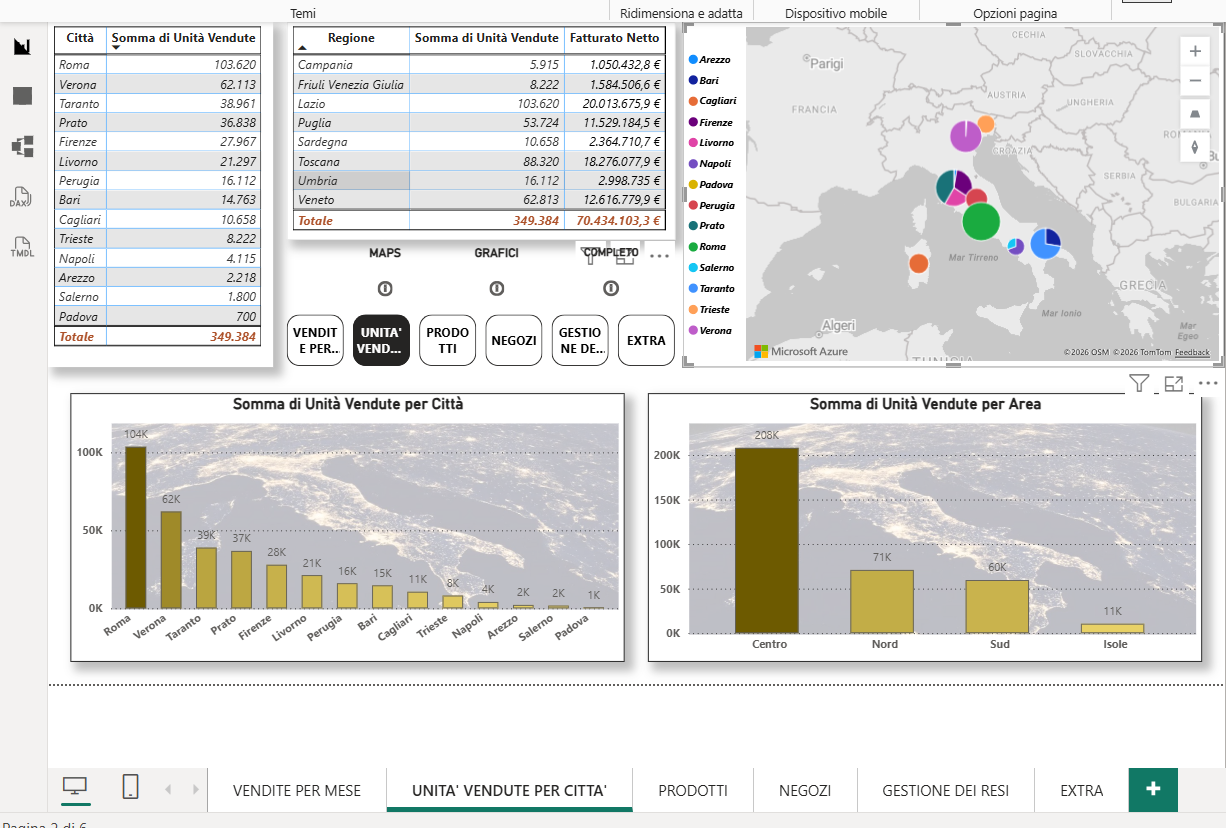

This screenshot's page, from the dashboard's own definition file:
{"tool":"powerbi","page":{"name":"UNITA' VENDUTE PER CITTA'","canvas":[1280,720],"ordinal":1},"visuals":[{"type":"tableEx","fields":{"Values":["Province Italiane.Città","Sum(Dati.Unità Vendute)"]},"box":[0,0,244.9,375.2],"z":0},{"type":"clusteredColumnChart","fields":{"Y":["Sum(Dati.Unità Vendute)"],"Category":["Province Italiane.Città"]},"box":[24.7,403.4,602.4,292.3],"z":1000},{"type":"clusteredColumnChart","fields":{"Y":["Sum(Dati.Unità Vendute)"],"Category":["Province Italiane.Area"]},"box":[651.8,403.4,602.4,292.3],"z":2000},{"type":"tableEx","fields":{"Values":["Province Italiane.Regione","Sum(Dati.Unità Vendute)","Dati.Fatturato Netto"]},"box":[259.3,0,422.6,236],"z":3000},{"type":"map","fields":{"Size":["Divide(Sum(Dati.Unità Vendute), ScopedEval(Sum(Dati.Unità Vendute), []))"],"Category":["Province Italiane.Regione"],"Series":["Province Italiane.Città"]},"box":[690.5,0,589.1,375.1],"z":4000},{"type":"pageNavigator","box":[259,318.1,422.4,56.6],"z":5000},{"type":"actionButton","title":"MAPS","box":[311.8,243.9,110.6,74.2],"z":6000},{"type":"actionButton","title":"GRAFICI","box":[437.5,243.9,100.6,72.9],"z":7000},{"type":"actionButton","title":"COMPLETO","box":[556.9,242.6,110.6,74.2],"z":8000}]}

Visuals, with their boxes in screenshot pixels (x1, y1, x2, y2):
tableEx - Province Italiane.Città x Sum(Dati.Unità Vendute): (left=51, top=22, right=274, bottom=364)
clusteredColumnChart - Sum(Dati.Unità Vendute) x Province Italiane.Città: (left=74, top=390, right=622, bottom=656)
clusteredColumnChart - Sum(Dati.Unità Vendute) x Province Italiane.Area: (left=645, top=390, right=1194, bottom=656)
tableEx - Province Italiane.Regione x Sum(Dati.Unità Vendute): (left=287, top=22, right=672, bottom=237)
map - Divide(Sum(Dati.Unità Vendute), ScopedEval(Sum(Dati.Unità Vendute), [])) x Province Italiane.Regione: (left=680, top=22, right=1217, bottom=364)
pageNavigator: (left=287, top=312, right=672, bottom=364)
"MAPS" actionButton: (left=335, top=245, right=436, bottom=312)
"GRAFICI" actionButton: (left=450, top=245, right=541, bottom=311)
"COMPLETO" actionButton: (left=558, top=243, right=659, bottom=311)
